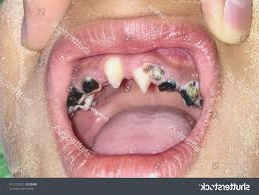Caries: (142, 65, 207, 112), (64, 77, 101, 113)
